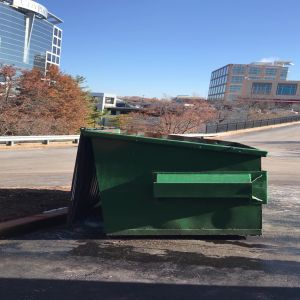Dumpster: (64, 125, 275, 241)
